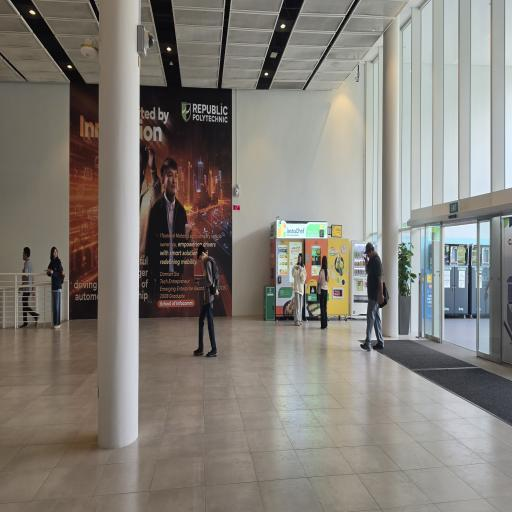person_left: (191, 238, 220, 368), (362, 241, 388, 356), (19, 236, 39, 329)
